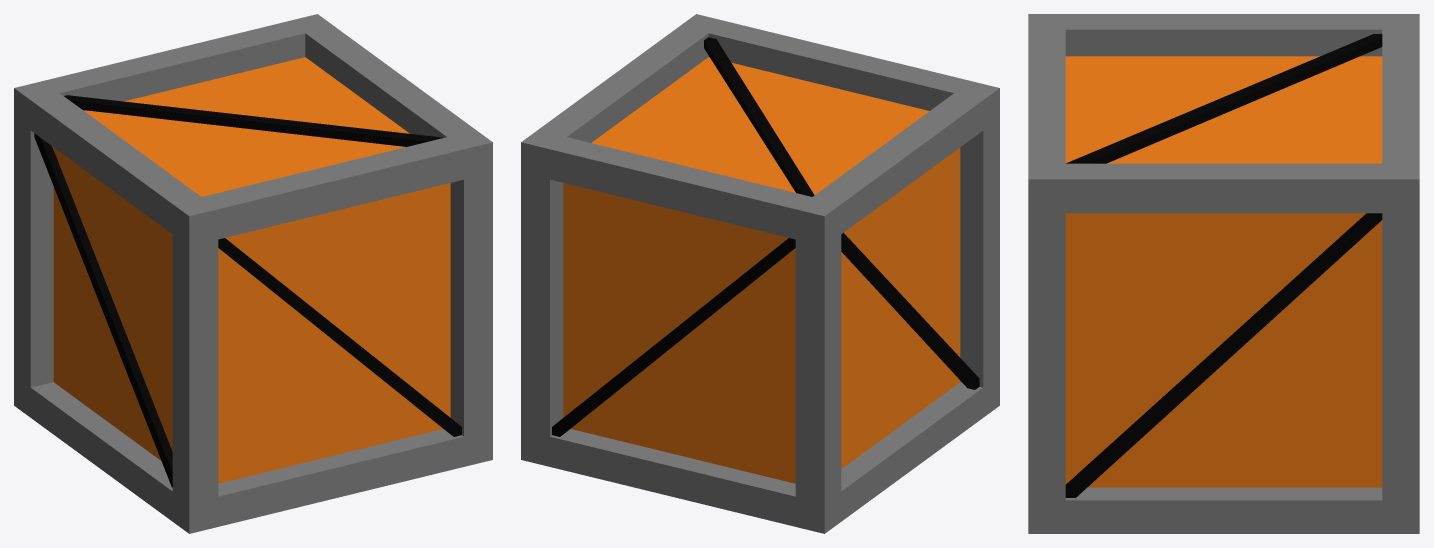
Rendered from Case.fbx.
The picture shows the model from 3 angles, left to right: view 1: azimuth 30°, elevation 25°; view 2: azimuth 150°, elevation 25°; view 3: azimuth 270°, elevation 25°; orthographic projection. The views are drawn at different scales.
Visible parts, largest first — view 1: CajaBase; view 2: CajaBase; view 3: CajaBase.
Part boxes in pixels (x1=…): CajaBase: x1=14, y1=14, x2=492, y2=533; CajaBase: x1=521, y1=14, x2=999, y2=533; CajaBase: x1=1028, y1=14, x2=1419, y2=533.
Bounding box in the file's own units: 20 × 20 × 20.
